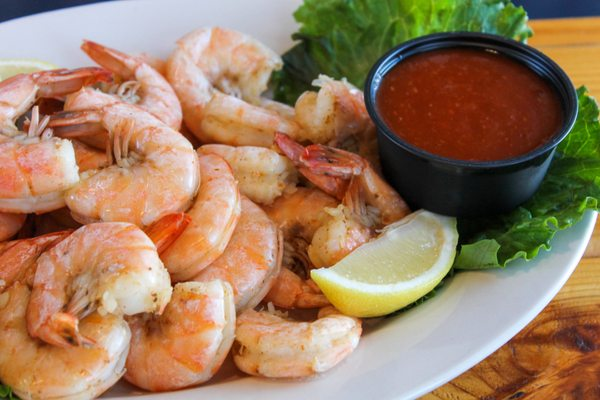sushi: (365, 30, 580, 217)
